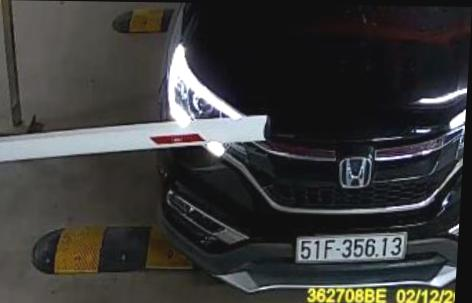License_Plate: (291, 228, 410, 269)
